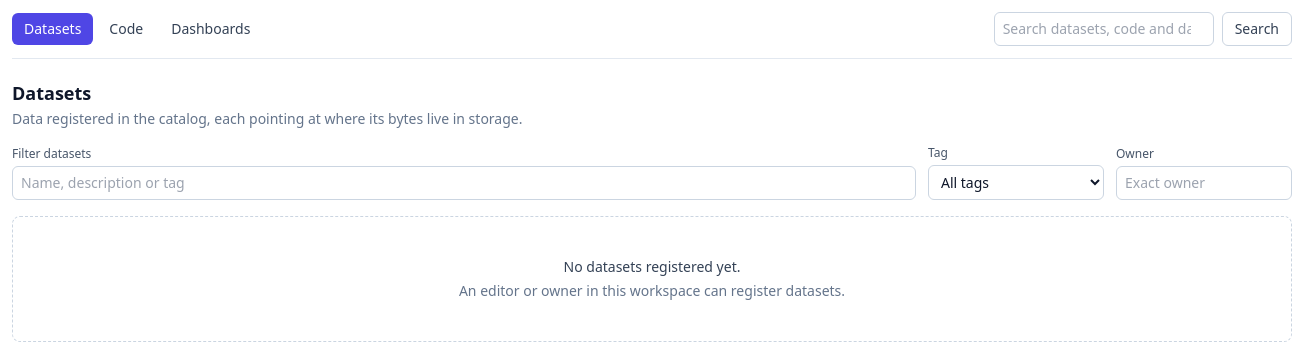
Test: dataset list › explains an empty catalog differently from an empty search
The width and height of the screenshot is (1304, 359).
Check: the text "No datasets registered yet." is shown, box [564,257,740,276]
Check: the text "An editor or owner in this workspace can register datasets." is shown, box [428,281,876,301]
Type "zzz" into the search field labelled "Filter datasets" at (464, 183), box [12,166,916,200]
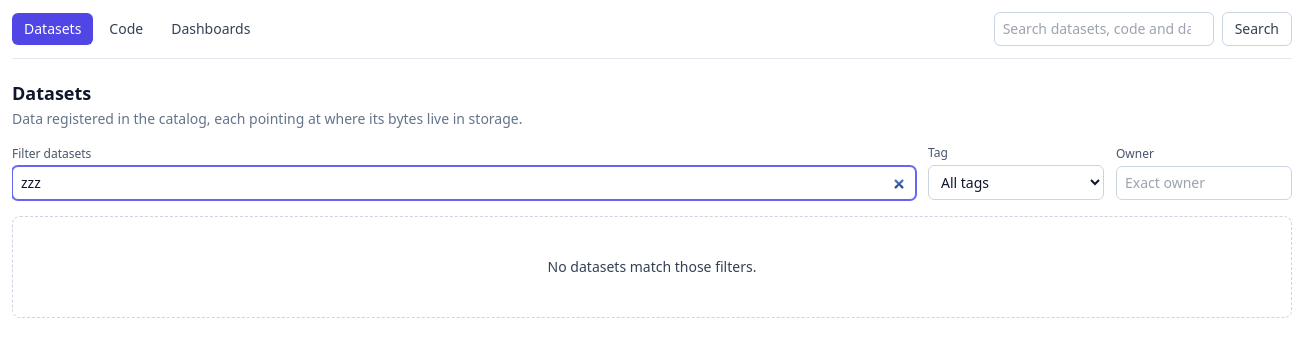
Check: the text "No datasets match those filters." is shown, box [548,257,756,276]
